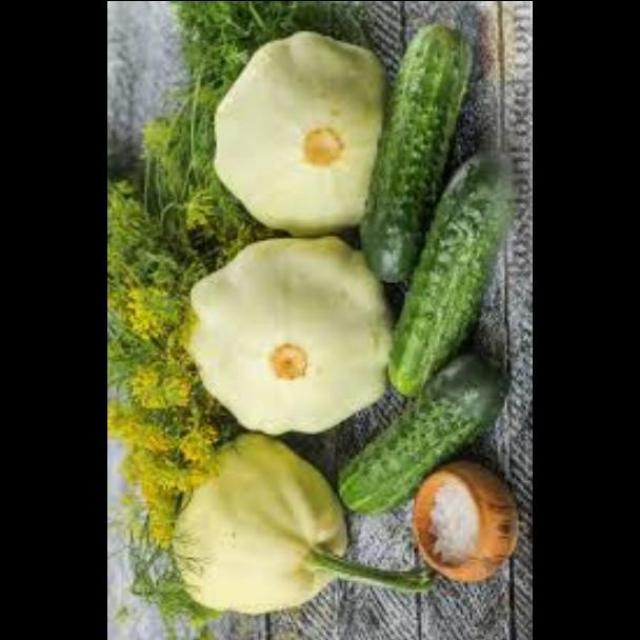cucumber: (383, 140, 531, 398), (350, 14, 484, 285), (332, 342, 510, 522)
squash-patisson: (171, 437, 416, 630), (168, 235, 376, 439), (208, 32, 380, 242)
